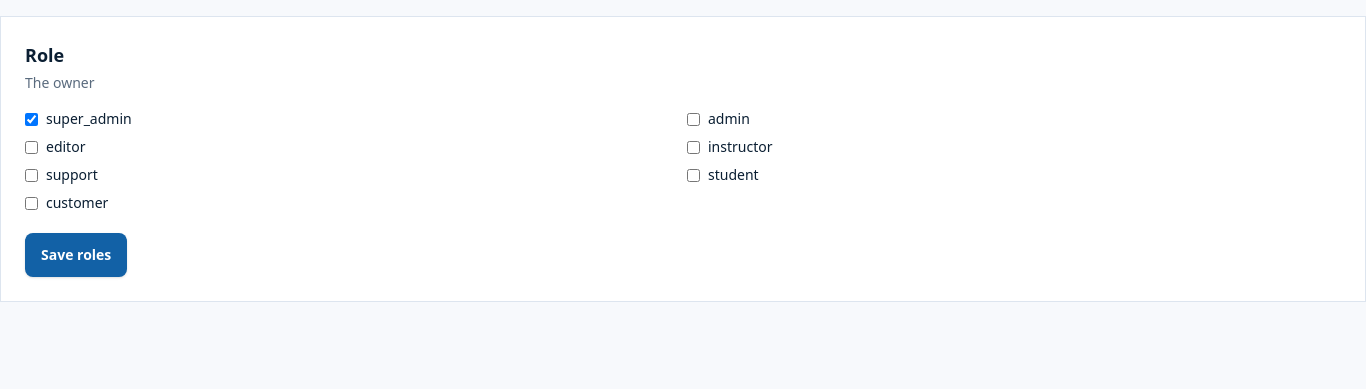
RoleEditor › says a super admin is out of reach when the API refuses
What coordinates should you click on to do the following:
click the button "Save roles"
I would click on:
 (76, 255)
Its box is [25, 233, 127, 277].
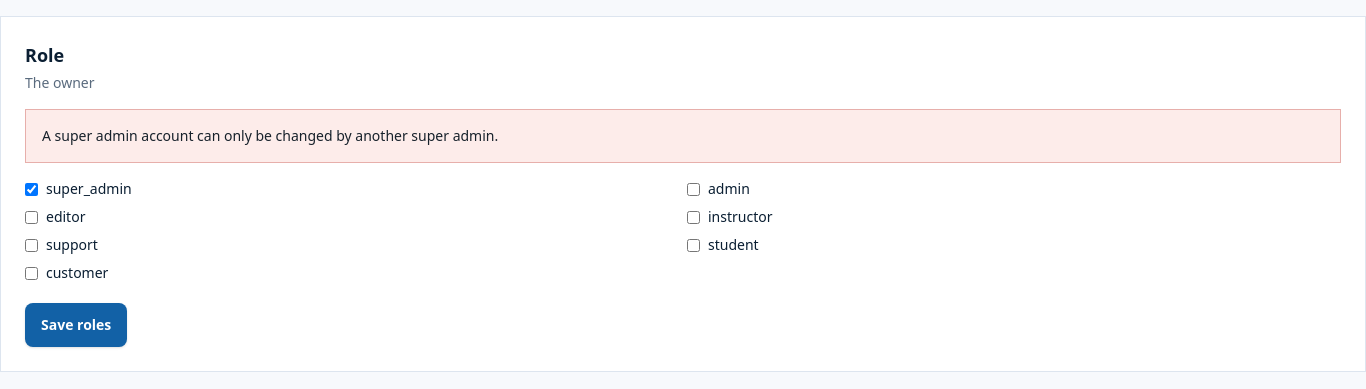
Expected: the text "A super admin account can only be changed by another super admin." is shown, [42, 126, 498, 145]
